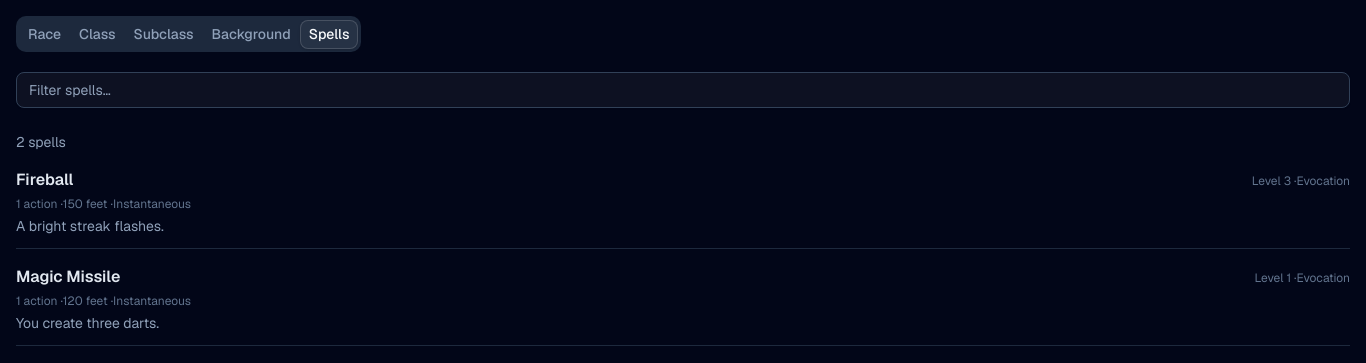
Test: descriptionPanel › filters spells by name and updates count
Type "fire" into the field with placeholder "Filter spells…".
click(683, 90); type("fire")  # box [16,72,1350,108]
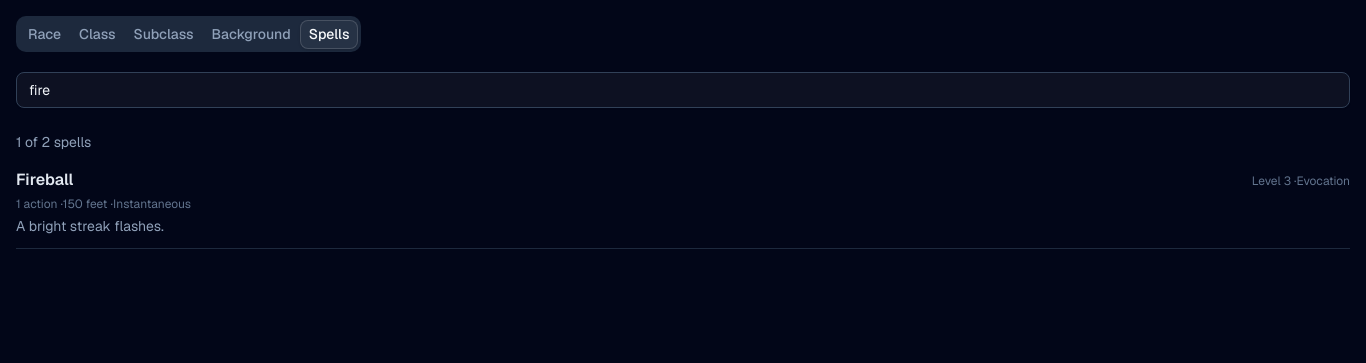
Expected: the heading "Fireball" is shown, [16,168,73,192]
Expected: the heading "Magic Missile" is gone
Expected: the text "1 of 2 spells" is shown, [16,133,91,151]
